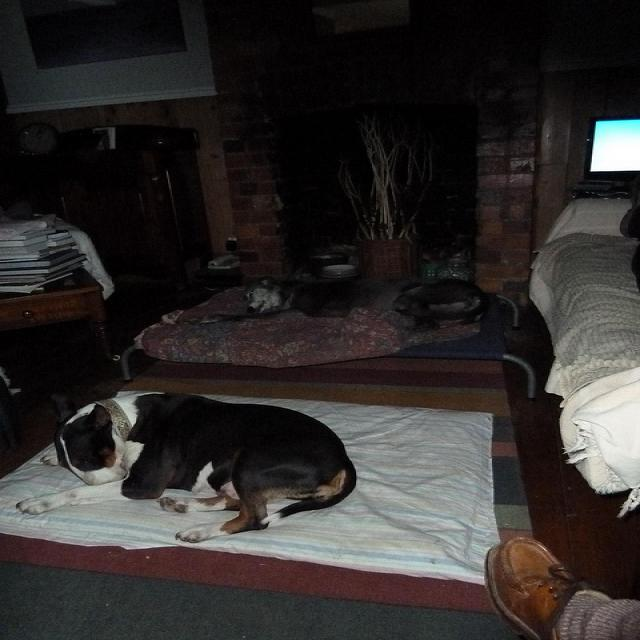Dog: (23, 384, 354, 591), (177, 243, 520, 341)
